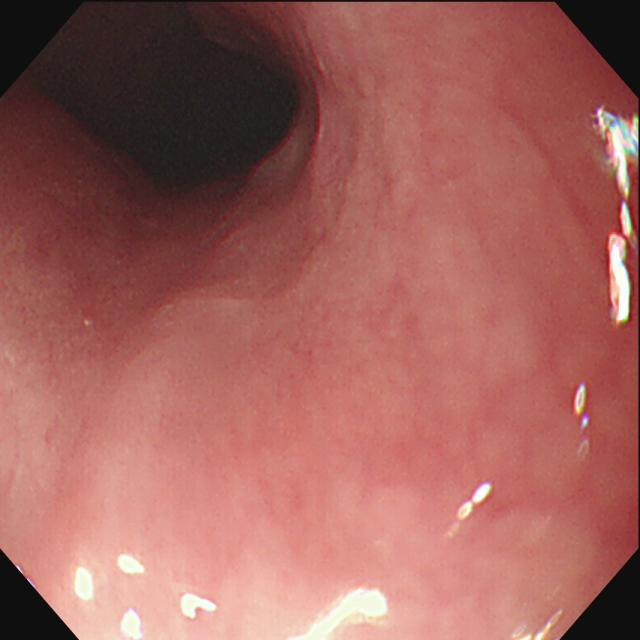E: (133, 51, 296, 193)
U: (592, 104, 640, 327), (283, 587, 389, 640), (511, 611, 562, 640), (458, 483, 493, 520), (178, 591, 219, 622), (571, 383, 593, 431), (73, 568, 97, 602), (120, 609, 144, 640), (117, 552, 146, 577)
